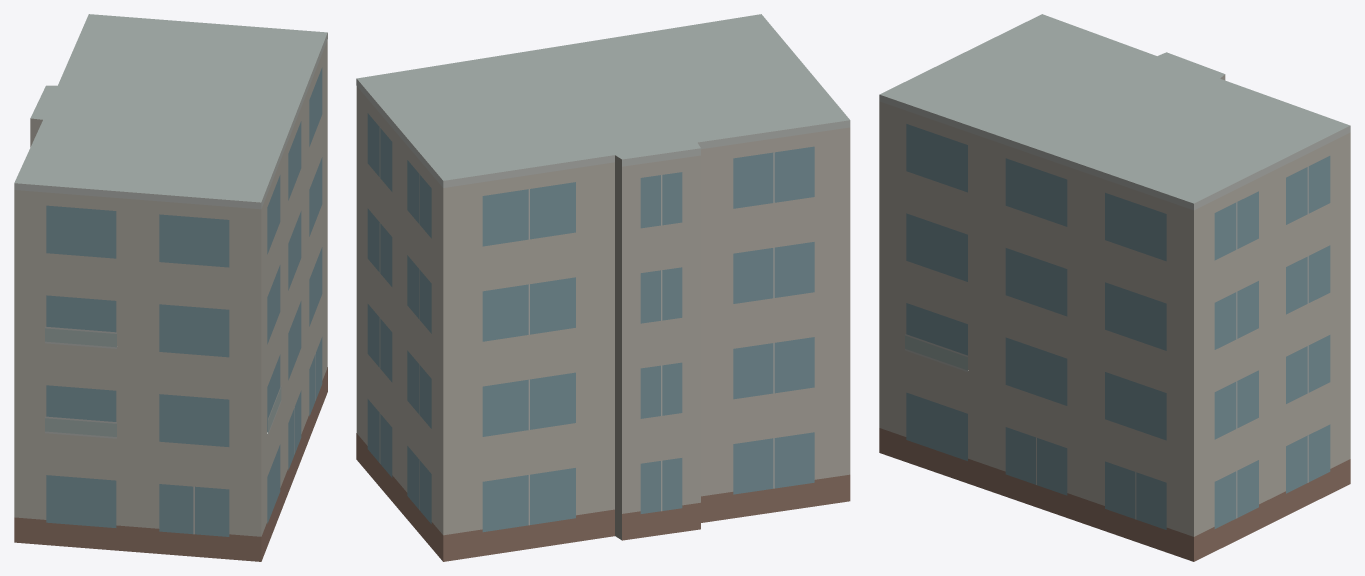
The model's file is survey-upis-32678574.glb.
The picture shows the model from 3 angles, left to right: view 1: azimuth 30°, elevation 25°; view 2: azimuth 150°, elevation 25°; view 3: azimuth 270°, elevation 25°; orthographic projection. The views are drawn at different scales.
Visible parts, largest first — view 1: survey-upis-32678574.tmp; view 2: survey-upis-32678574.tmp; view 3: survey-upis-32678574.tmp.
Part boxes in pixels (bbox=[...]): survey-upis-32678574.tmp: bbox=[14, 14, 327, 561]; survey-upis-32678574.tmp: bbox=[356, 14, 850, 561]; survey-upis-32678574.tmp: bbox=[879, 14, 1350, 561].
Size of the model in its own units: 14.65 by 12.9 by 15.38.
